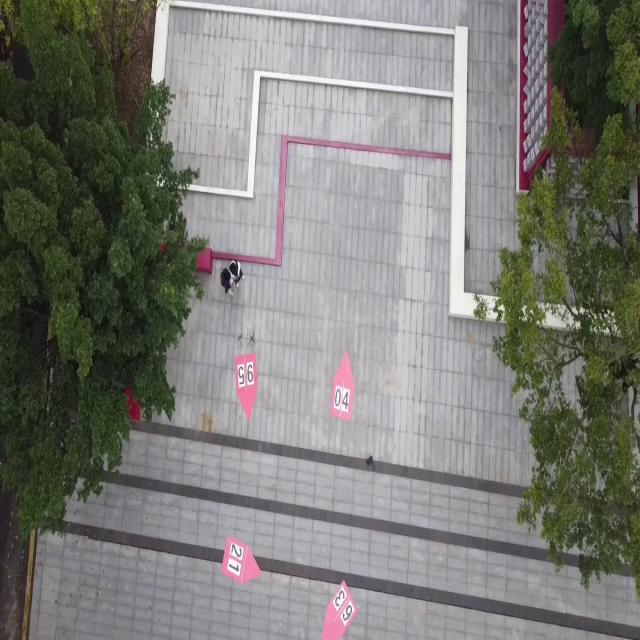-sign-: (319, 337, 360, 438), (308, 570, 366, 640), (227, 348, 265, 423), (219, 530, 265, 590)
